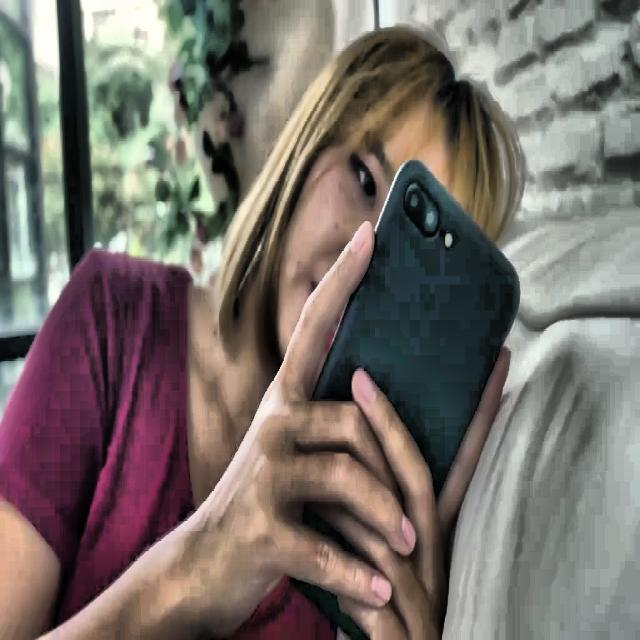Phone: (296, 157, 524, 640)
